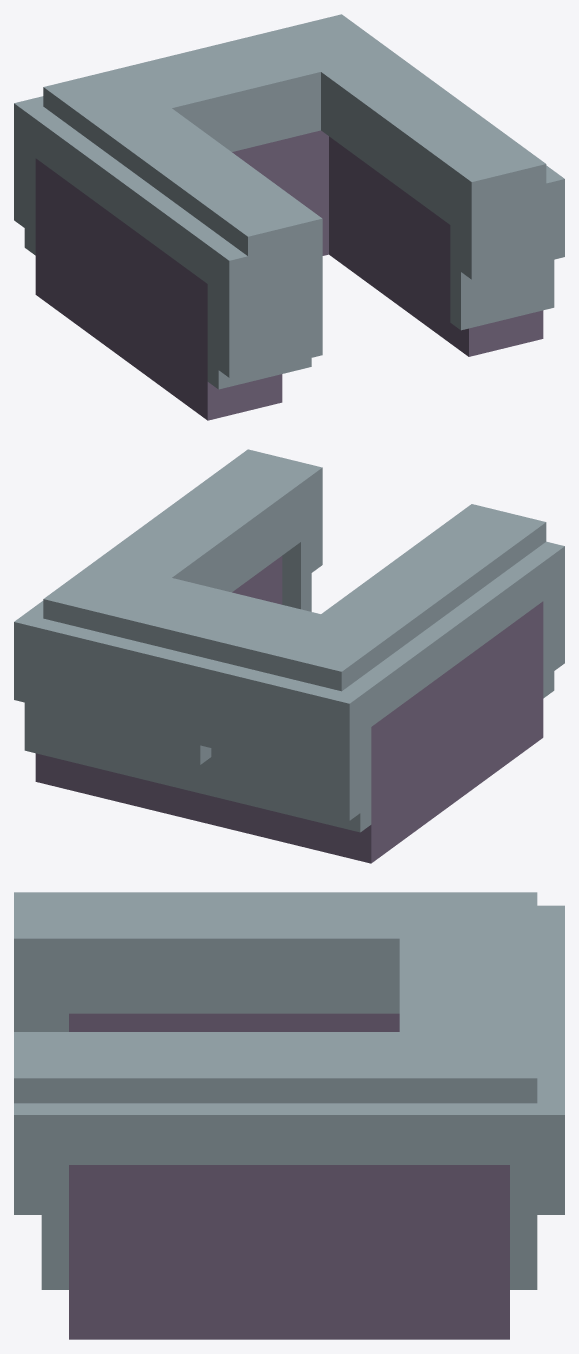
The model's file is Floors-5.obj.
3 views of the same model, one above another, from view 1: azimuth 30°, elevation 25°; view 2: azimuth 150°, elevation 25°; view 3: azimuth 270°, elevation 25° (orthographic). The views are drawn at different scales.
Bounding box in the file's own units: 1.8 × 1 × 2.
